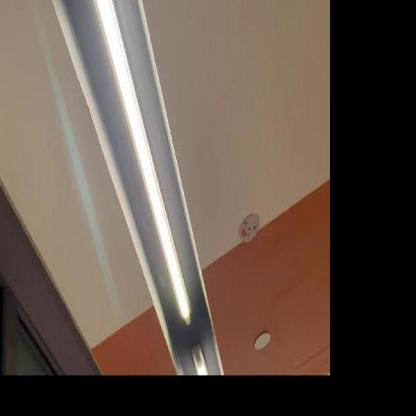light_on: (82, 0, 236, 339), (184, 350, 210, 376)
